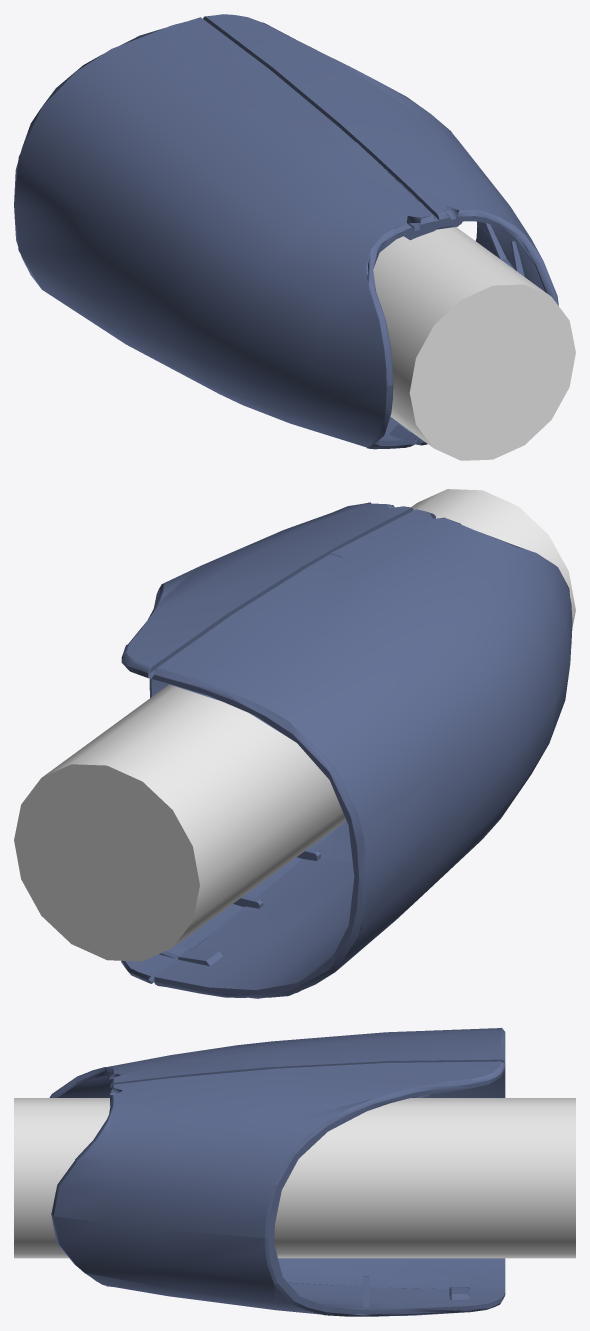
Rendered from icub_l_forearm.glb.
3 renders of one model, top to bottom at view 1: azimuth 30°, elevation 25°; view 2: azimuth 150°, elevation 25°; view 3: azimuth 270°, elevation 25°, orthographic. The views are drawn at different scales.
Parts seen in each view (by area): view 1: l_forearm_mesh.001, l_forearm_cyl_mesh.001, l_forearm_mesh, l_forearm_cyl_mesh; view 2: l_forearm_mesh.001, l_forearm_cyl_mesh, l_forearm_mesh; view 3: l_forearm_mesh, l_forearm_cyl_mesh, l_forearm_mesh.001.
Part boxes in pixels (bbox=[...]): l_forearm_mesh.001: bbox=[14, 17, 435, 449]; l_forearm_cyl_mesh.001: bbox=[409, 284, 575, 460]; l_forearm_mesh: bbox=[203, 14, 558, 305]; l_forearm_cyl_mesh: bbox=[373, 227, 549, 447]; l_forearm_mesh.001: bbox=[154, 509, 572, 998]; l_forearm_cyl_mesh: bbox=[14, 489, 575, 961]; l_forearm_mesh: bbox=[121, 502, 413, 983]; l_forearm_mesh: bbox=[51, 1061, 505, 1316]; l_forearm_cyl_mesh: bbox=[14, 1098, 575, 1258]; l_forearm_mesh.001: bbox=[49, 1027, 505, 1289].
Bounding box in the file's own units: 0.0804 × 0.0654 × 0.14.
